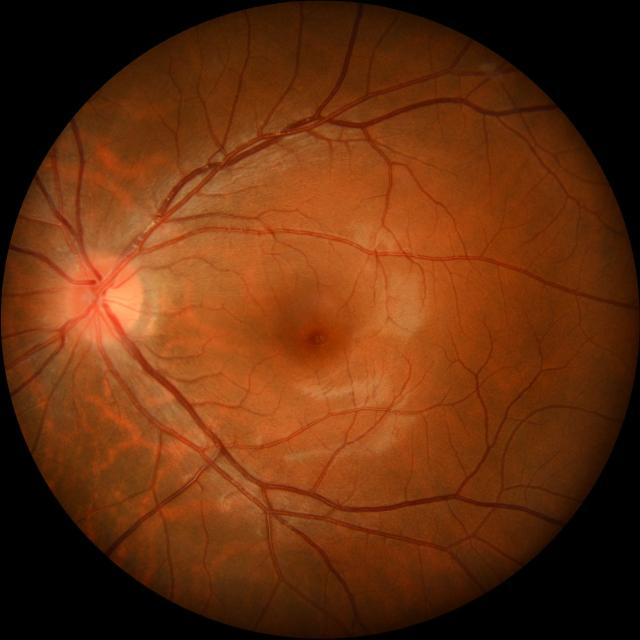OC: (95, 285, 120, 312)
OD: (65, 253, 142, 342)
